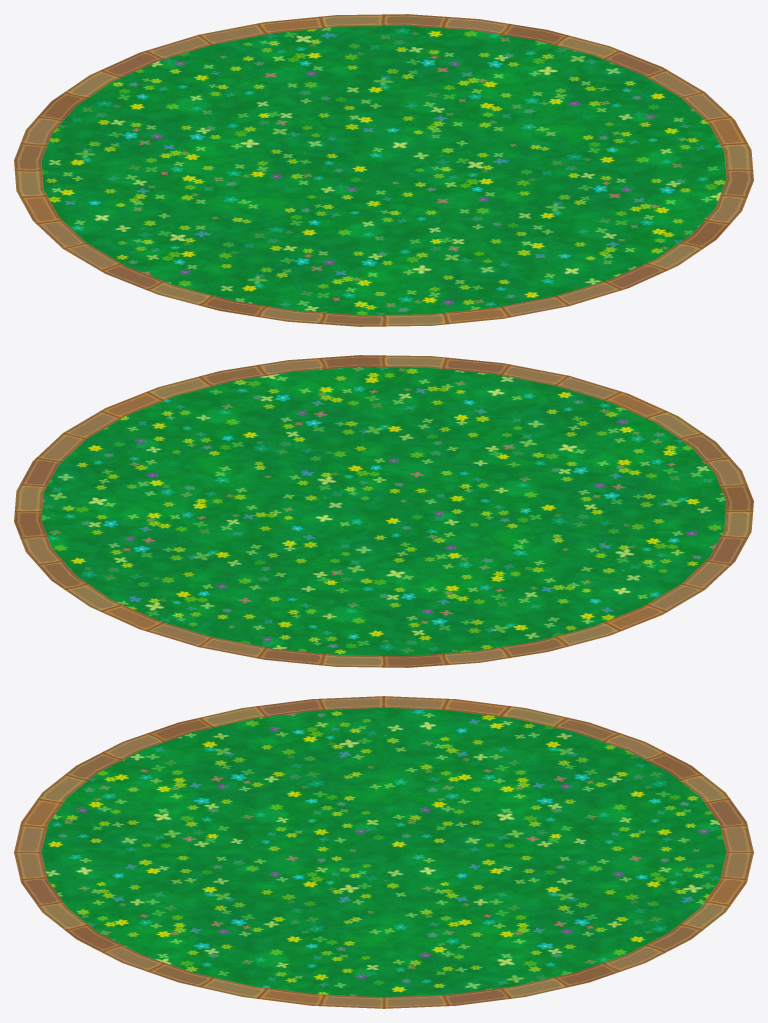
The model's file is Plant05_a01.FBX.
The picture shows the model from 3 angles, top to bottom: view 1: azimuth 30°, elevation 25°; view 2: azimuth 150°, elevation 25°; view 3: azimuth 270°, elevation 25°; orthographic projection.
Parts seen in each view (by area): view 1: Plant05_a01; view 2: Plant05_a01; view 3: Plant05_a01.
Part boxes in pixels (x1,y1,x2,y2): Plant05_a01: (14,14,753,326); Plant05_a01: (14,355,753,667); Plant05_a01: (14,696,753,1008).
Size of the model in its own units: 1551 by 0.000396 by 1551.
2 materials, 2 textured.
